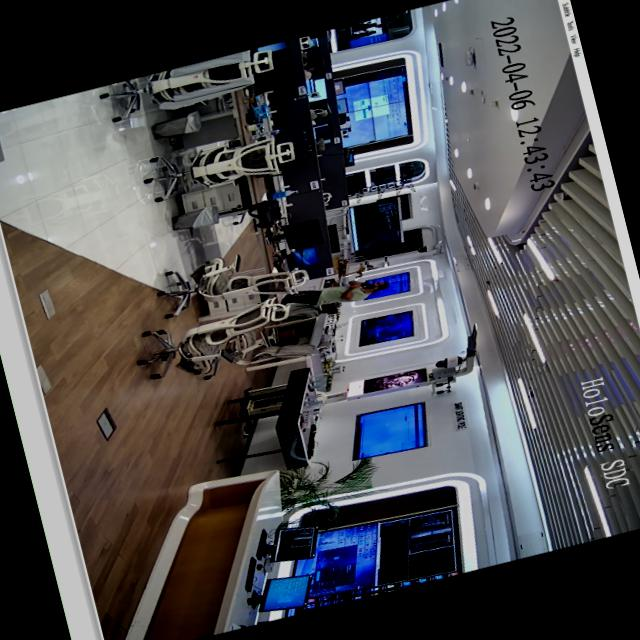long weapon: (348, 279, 372, 293)
